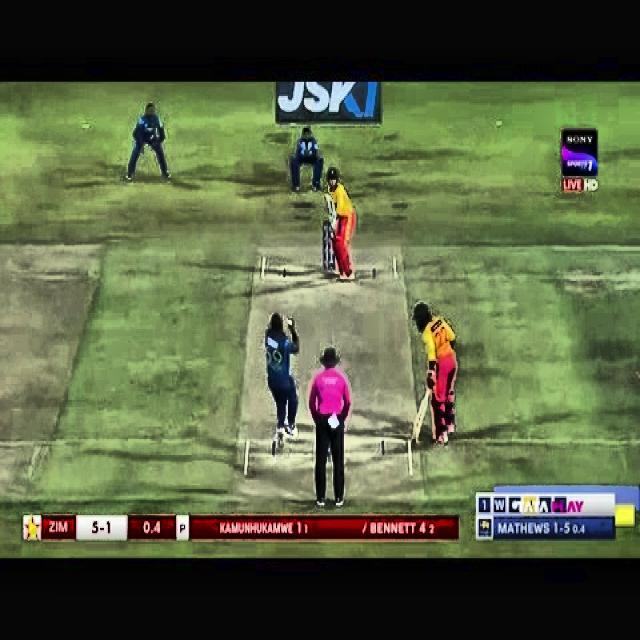Left-stump: (323, 222, 326, 268)
Middle-stump: (328, 222, 331, 269)
Right-stump: (332, 252, 336, 269)
